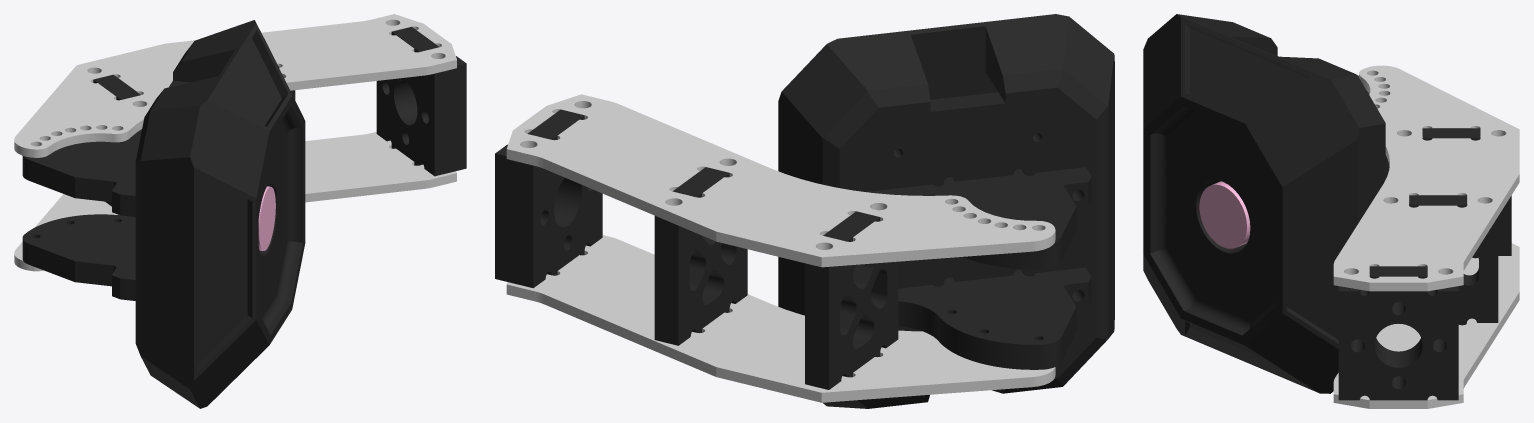
Rendered from head.dae.
The picture shows the model from 3 angles, left to right: view 1: azimuth 30°, elevation 25°; view 2: azimuth 150°, elevation 25°; view 3: azimuth 270°, elevation 25°; orthographic projection. The views are drawn at different scales.
Parts seen in each view (by area): view 1: head_link; view 2: head_link; view 3: head_link.
Boxes of the visible parts, box(x1,y1,x2,y2) form: head_link: box(14, 14, 466, 408); head_link: box(495, 14, 1114, 408); head_link: box(1143, 14, 1519, 408).
Bounding box in the file's own units: 0.1068 × 0.0782 × 0.0729.
